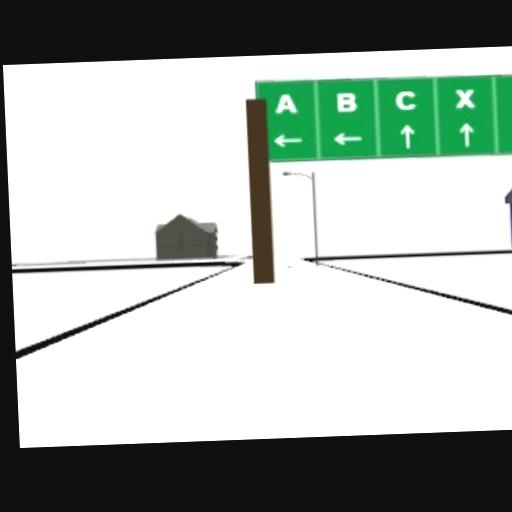A: (274, 92, 296, 114)
B: (335, 91, 356, 112)
C: (395, 89, 417, 110)
Left: (330, 130, 361, 145), (272, 133, 303, 147)
Right: (511, 130, 512, 135)
Straight: (400, 121, 416, 147), (459, 121, 473, 145)
X: (454, 87, 475, 107)
Y: (510, 86, 512, 103)
